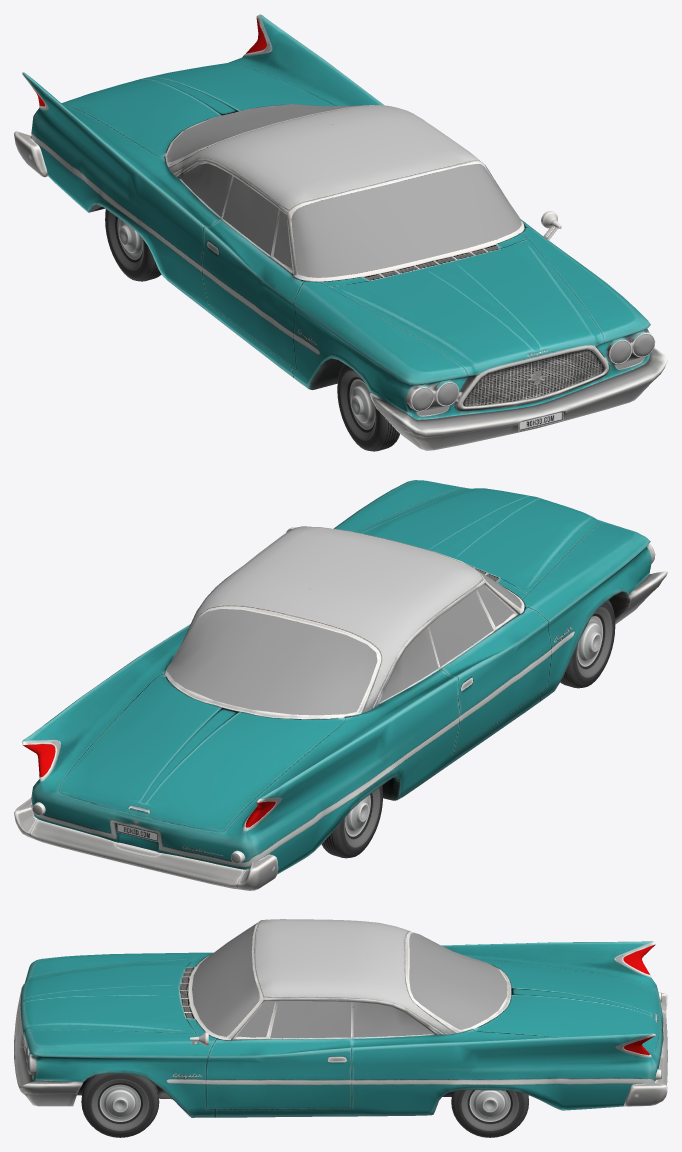
The model's file is low-poly-car-chrysler-saratoga-1960-3fa89e.glb.
3 renders of one model, top to bottom at view 1: azimuth 30°, elevation 25°; view 2: azimuth 150°, elevation 25°; view 3: azimuth 270°, elevation 25°, orthographic. The views are drawn at different scales.
Parts seen in each view (by area): view 1: body, wheel-front-right, wheel-back-right; view 2: body, wheel-front-right, wheel-back-right; view 3: body, wheel-front-left, wheel-back-left.
Part boxes in pixels (box(x1,y1,x2,y2)): body: box(14, 14, 667, 450); wheel-front-right: box(337, 363, 399, 451); wheel-back-right: box(105, 209, 161, 281); body: box(14, 480, 667, 890); wheel-front-right: box(560, 600, 615, 688); wheel-back-right: box(321, 785, 382, 858); body: box(14, 919, 667, 1117); wheel-front-left: box(81, 1073, 159, 1137); wheel-back-left: box(451, 1090, 528, 1137).
Bounding box in the file's own units: 2.16 × 1.4 × 5.73.
Materials: 3 (3 with a texture image).
